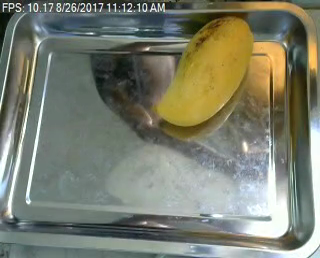Mango: (155, 13, 258, 133)
